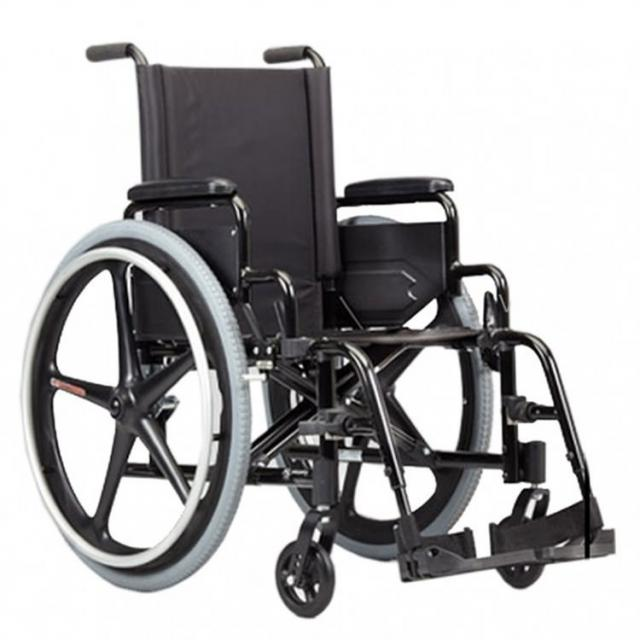wheelchair: (16, 32, 629, 624)
